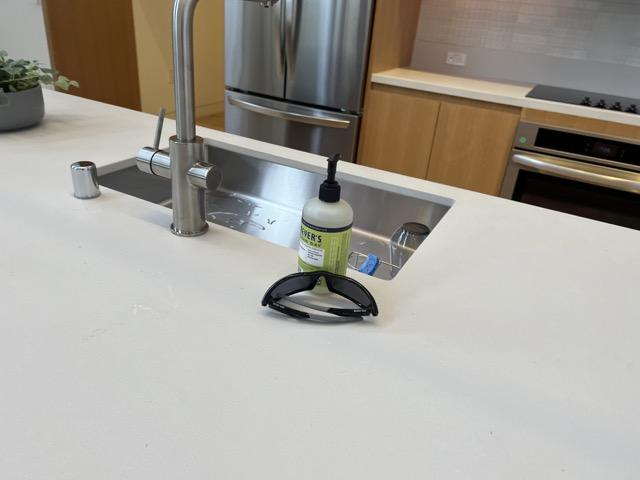Sunglasses: (261, 270, 379, 325)
